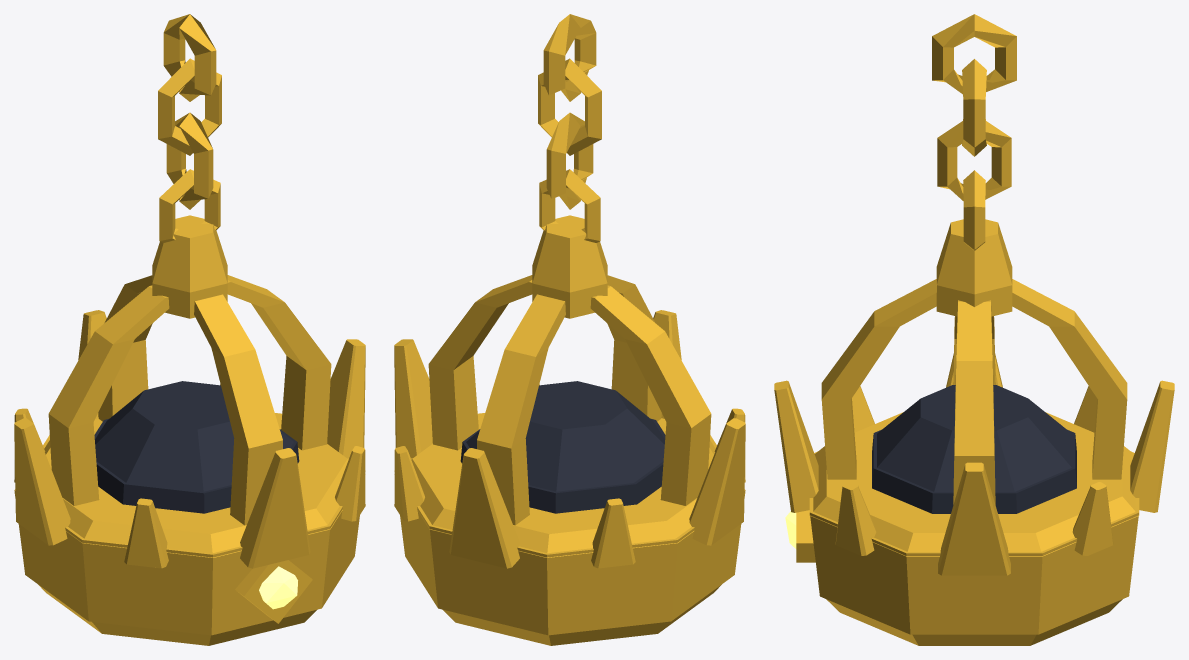
Rendered from CrownTrophy.fbx.
3 views of the same model, side by side, from view 1: azimuth 30°, elevation 25°; view 2: azimuth 150°, elevation 25°; view 3: azimuth 270°, elevation 25° (orthographic).
Visible parts, largest first — view 1: Body_Crown_Gold, Body_Crown_Dark, Chain, Neon; view 2: Body_Crown_Gold, Body_Crown_Dark, Chain; view 3: Body_Crown_Gold, Body_Crown_Dark, Chain.
Boxes of the visible parts, x1,y1,x2,y2 form: Body_Crown_Gold: [14, 169, 365, 645]; Body_Crown_Dark: [94, 381, 299, 513]; Chain: [158, 14, 221, 209]; Neon: [259, 566, 297, 609]; Body_Crown_Gold: [394, 169, 745, 645]; Body_Crown_Dark: [460, 381, 665, 513]; Chain: [538, 14, 601, 209]; Body_Crown_Gold: [774, 170, 1174, 645]; Body_Crown_Dark: [872, 385, 1076, 513]; Chain: [932, 14, 1016, 200].
Size of the model in its own units: 0.2201 by 0.3489 by 0.2201.
